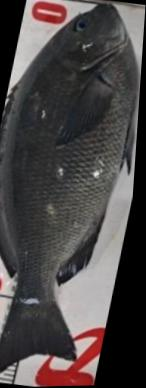fish: (0, 4, 142, 380)
